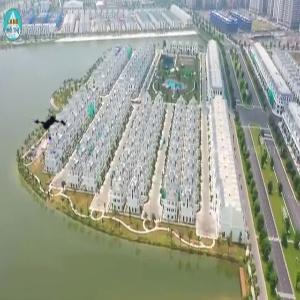drone: (31, 106, 79, 154)
